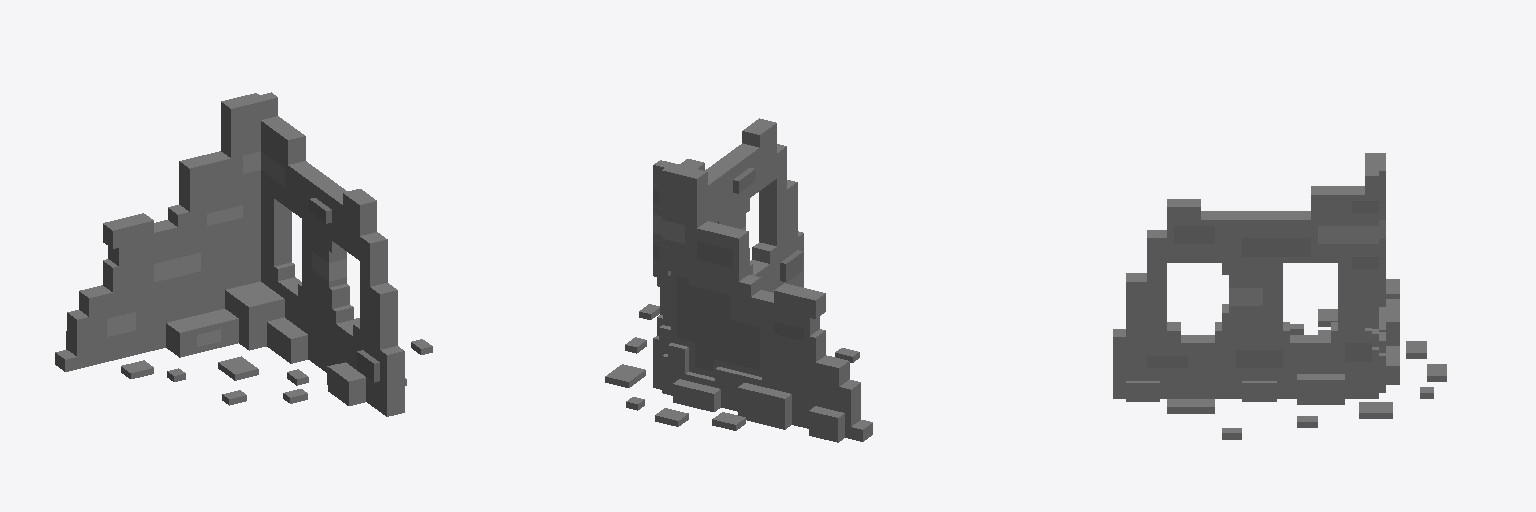
The picture shows the model from 3 angles: view 1: azimuth 30°, elevation 25°; view 2: azimuth 150°, elevation 25°; view 3: azimuth 270°, elevation 25°; orthographic projection.
Visible parts, largest first — view 1: object 1; view 2: object 1; view 3: object 1.
Part boxes in pixels (x1,y1,x2,y2): object 1: (55,92,432,416); object 1: (605,118,872,442); object 1: (1113,153,1446,439).
Size of the model in its own units: 5 by 3.6 by 4.9.
Materials: 1 (1 with a texture image).